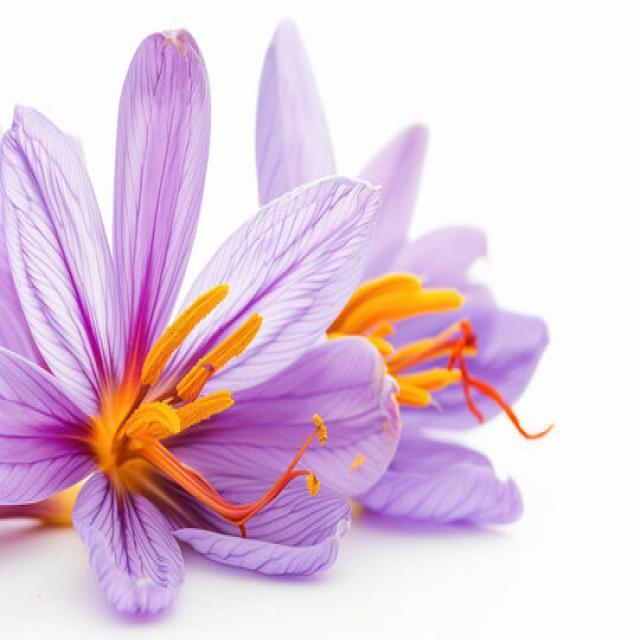Flower: (0, 31, 403, 613)
stigma: (144, 410, 332, 525), (144, 442, 326, 528), (454, 373, 559, 446), (457, 350, 490, 430)
